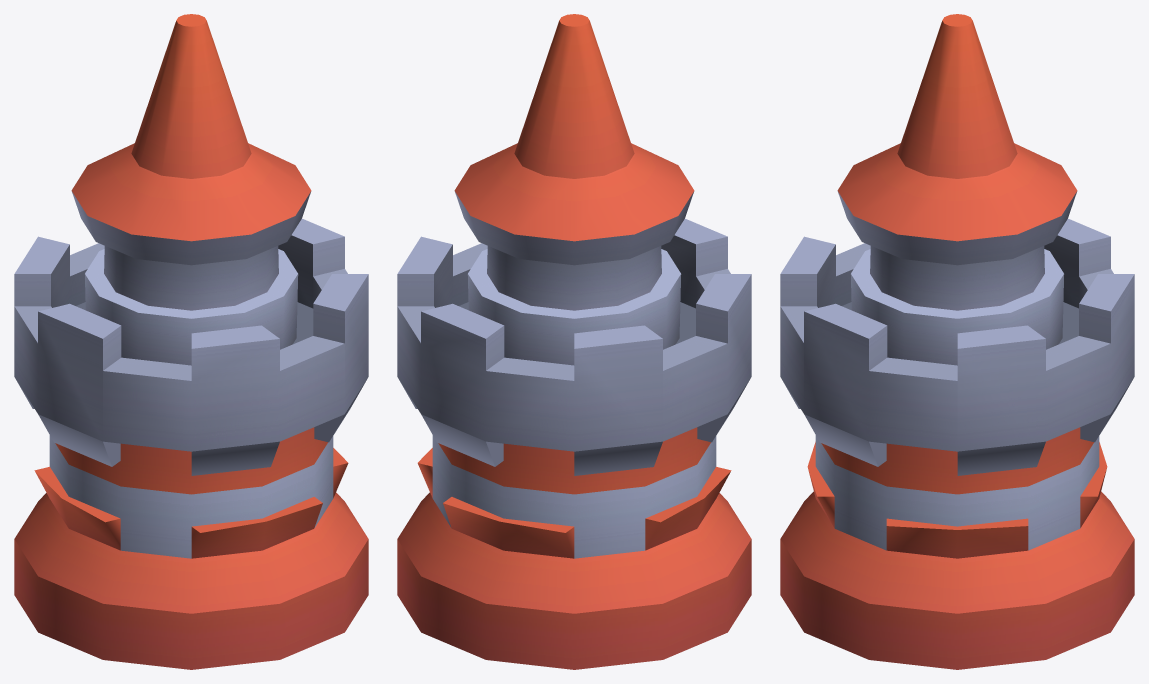
The model's file is tower-round-build-f.glb.
3 views of the same model, side by side, from view 1: azimuth 30°, elevation 25°; view 2: azimuth 150°, elevation 25°; view 3: azimuth 270°, elevation 25° (orthographic).
Visible parts, largest first — view 1: tower-round-build-f; view 2: tower-round-build-f; view 3: tower-round-build-f.
Part boxes in pixels (bbox=[...]): tower-round-build-f: bbox=[14, 14, 368, 669]; tower-round-build-f: bbox=[397, 14, 751, 669]; tower-round-build-f: bbox=[780, 14, 1134, 669].
Size of the model in its own units: 1 by 1.79 by 1.
1 material, 1 textured.
